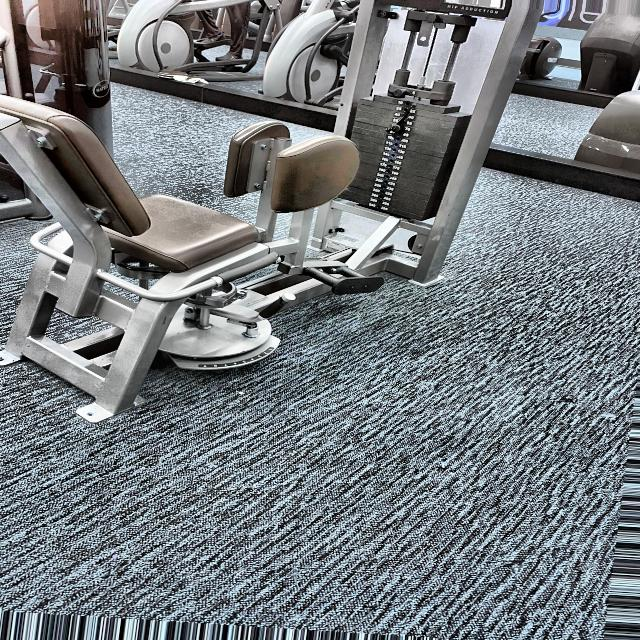hip_adduction_machine: (0, 68, 410, 418), (184, 87, 376, 347), (443, 2, 502, 18)
